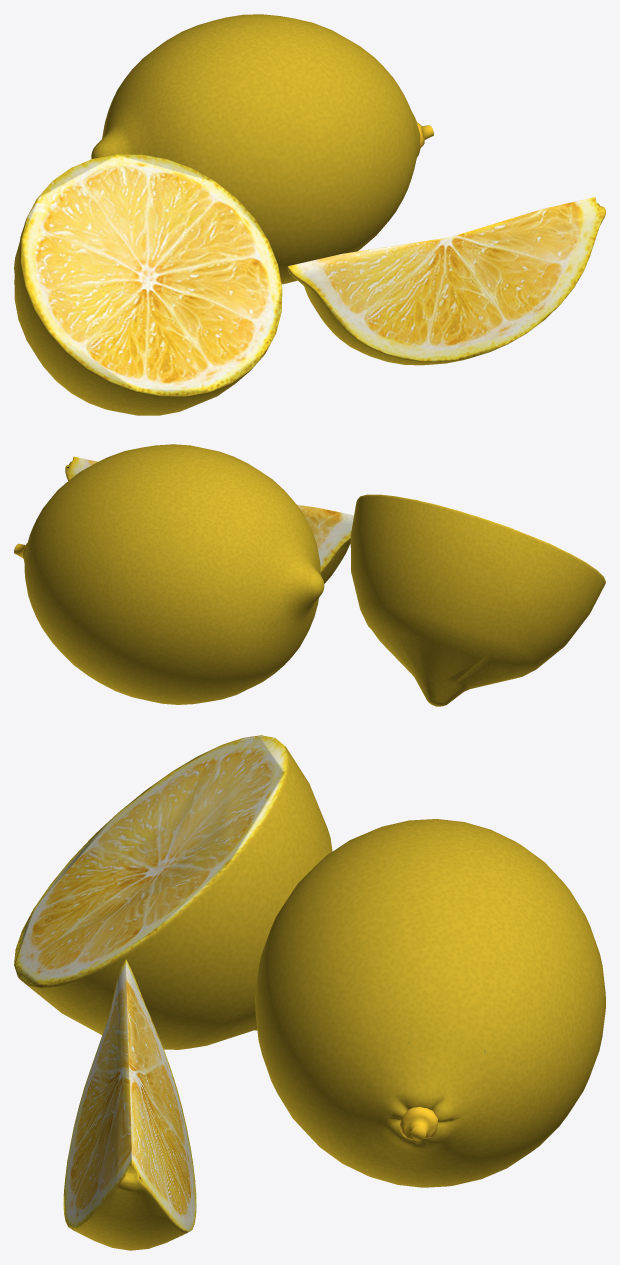
File: lemon-mobile.glb
The picture shows the model from 3 angles, top to bottom: view 1: azimuth 30°, elevation 25°; view 2: azimuth 150°, elevation 25°; view 3: azimuth 270°, elevation 25°; orthographic projection. The views are drawn at different scales.
Parts seen in each view (by area): view 1: half_lime, lime, lime_cut; view 2: lime, half_lime, lime_cut; view 3: lime, half_lime, lime_cut.
Boxes of the visible parts, <box> form: half_lime: <box>14,154,282,415</box>; lime: <box>91,14,433,284</box>; lime_cut: <box>287,197,605,365</box>; lime: <box>14,444,324,704</box>; half_lime: <box>350,494,605,706</box>; lime_cut: <box>65,456,353,583</box>; lime: <box>255,819,605,1187</box>; half_lime: <box>14,735,332,1049</box>; lime_cut: <box>63,959,196,1250</box>.
Bounding box in the file's own units: 0.3176 × 0.1423 × 0.226.
1 material, 1 textured.
